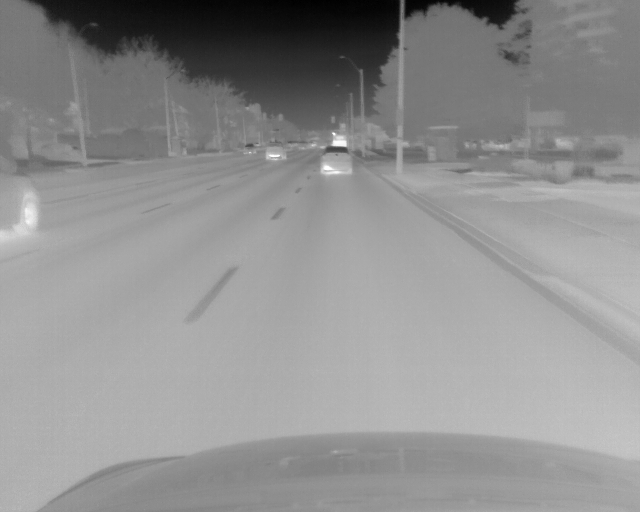car: (1, 152, 42, 240), (318, 145, 351, 175), (264, 141, 286, 161), (242, 143, 256, 155), (286, 140, 299, 151)
